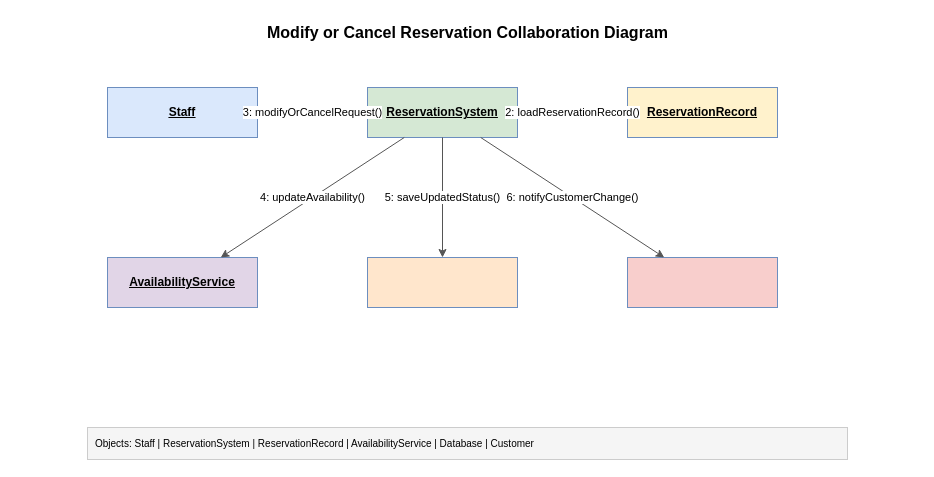
Some shapes in this 934 by 477 pixel diagram are drawn without their labels. The shapes that lost their labels are listed below. From the top down, each one's box as (x1, y1, x2, y2) in pixels, then its label:
(366, 256, 518, 308): Database
(626, 256, 778, 308): Customer
